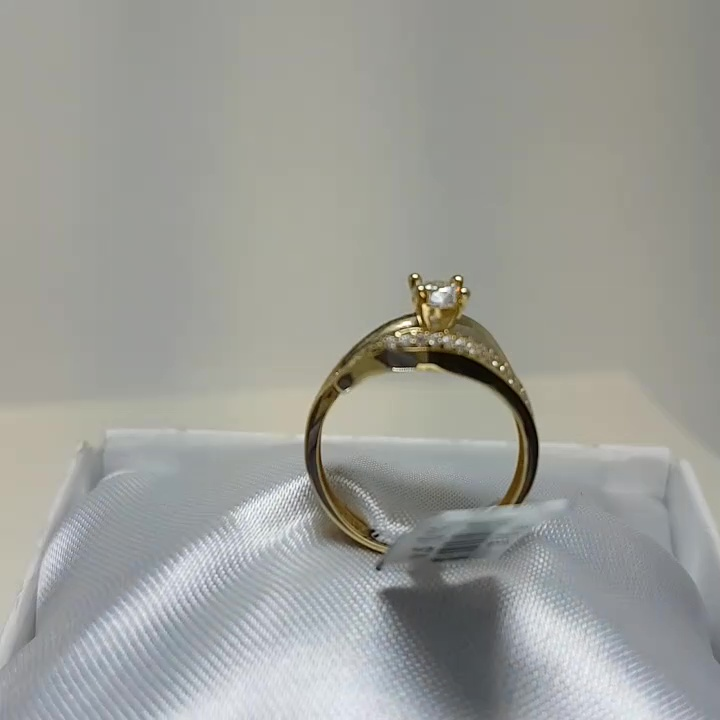Ring 6: (294, 241, 564, 567)
